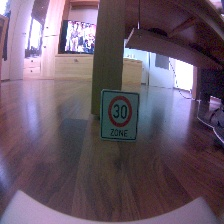dreisiger_zone: (99, 89, 139, 142)
